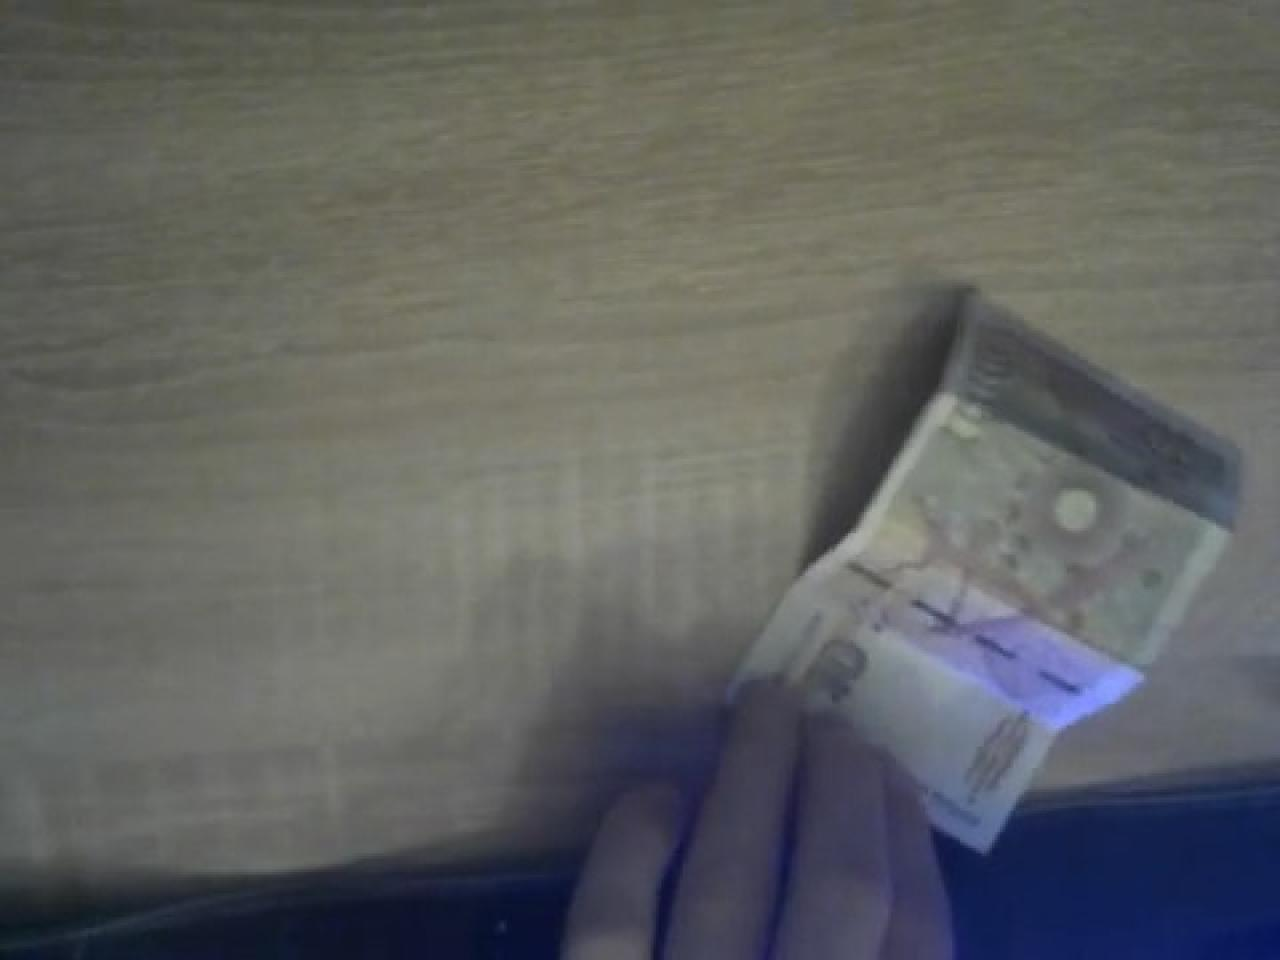10leva: (726, 282, 1243, 851)
